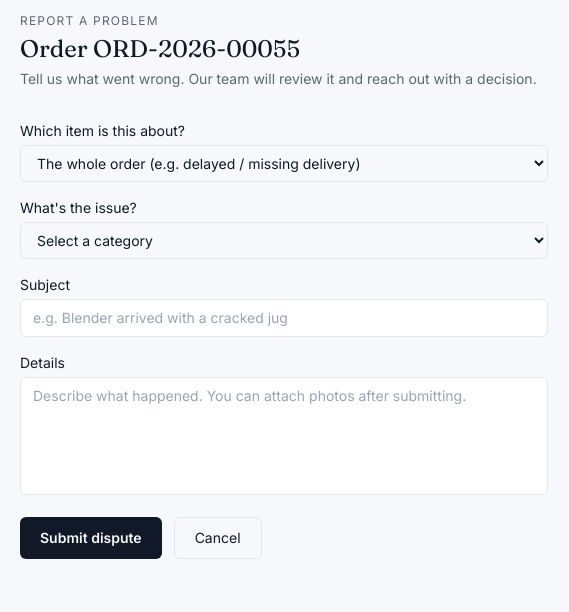
Test case: NewDispute page › shows an error message when submission fails
Expected: the heading "Order ORD-2026-00055" is shown, [20,34,300,63]
Select "Other issue" in the dropdown labelled "What's the issue?" at (284, 240), box [20,222,548,259]
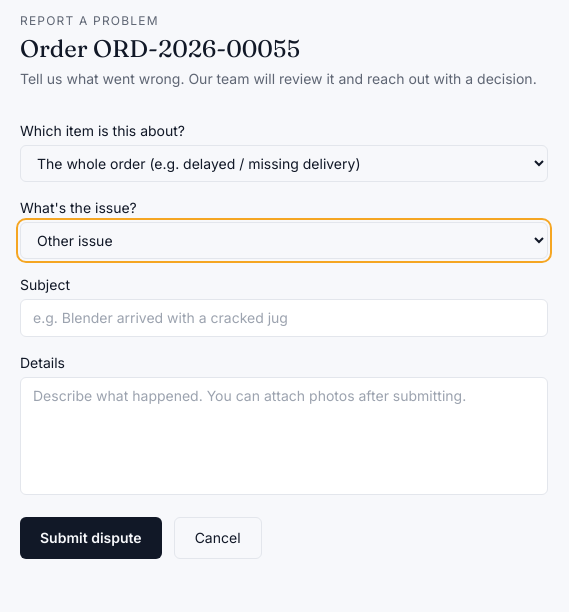
Type "Subject line" into the field labelled "Subject" at (284, 318), box [20,299,548,337]
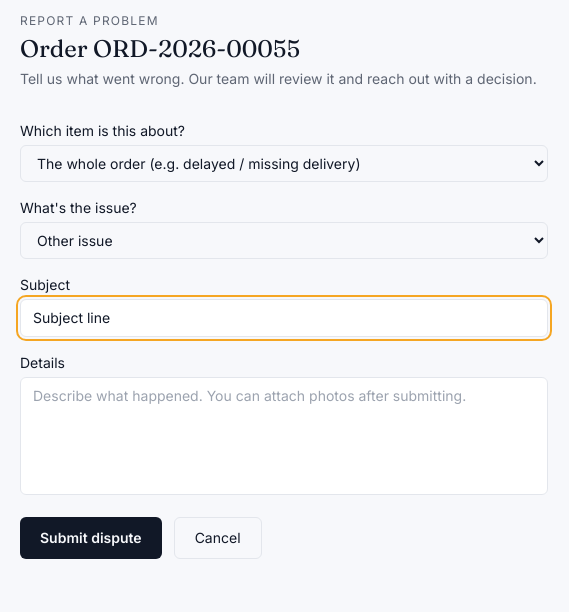
Type "Description text" into the text box labelled "Details" at (284, 436), box [20,377,548,495]
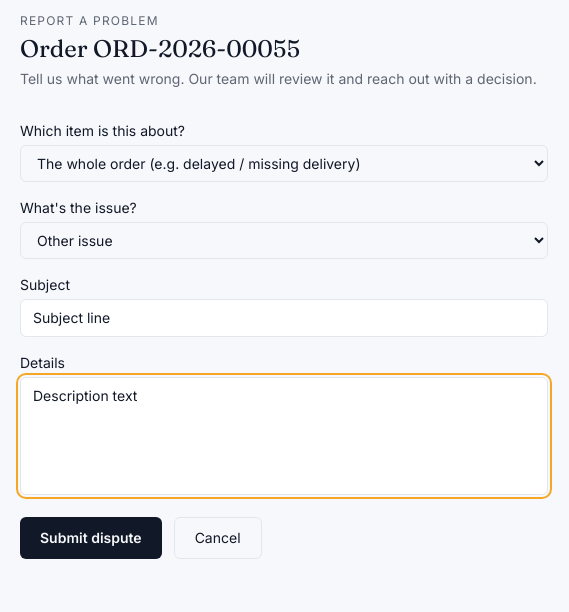
Click the button "Submit dispute" at (91, 538), box [20,517,162,559]
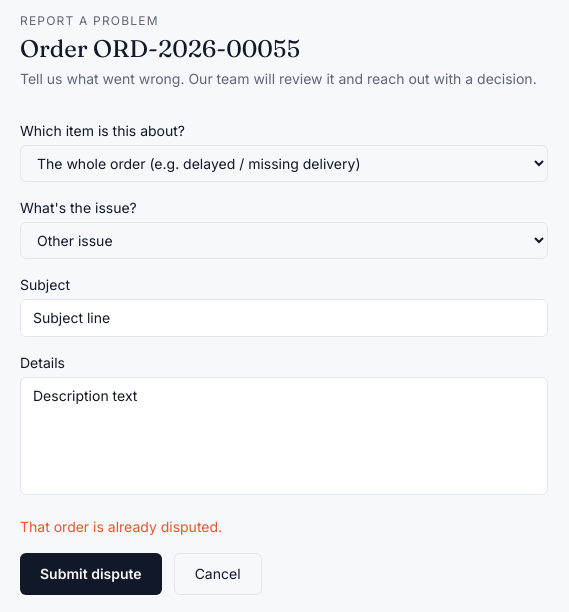
Expected: the text "That order is already disputed." is shown, [20,518,222,535]
